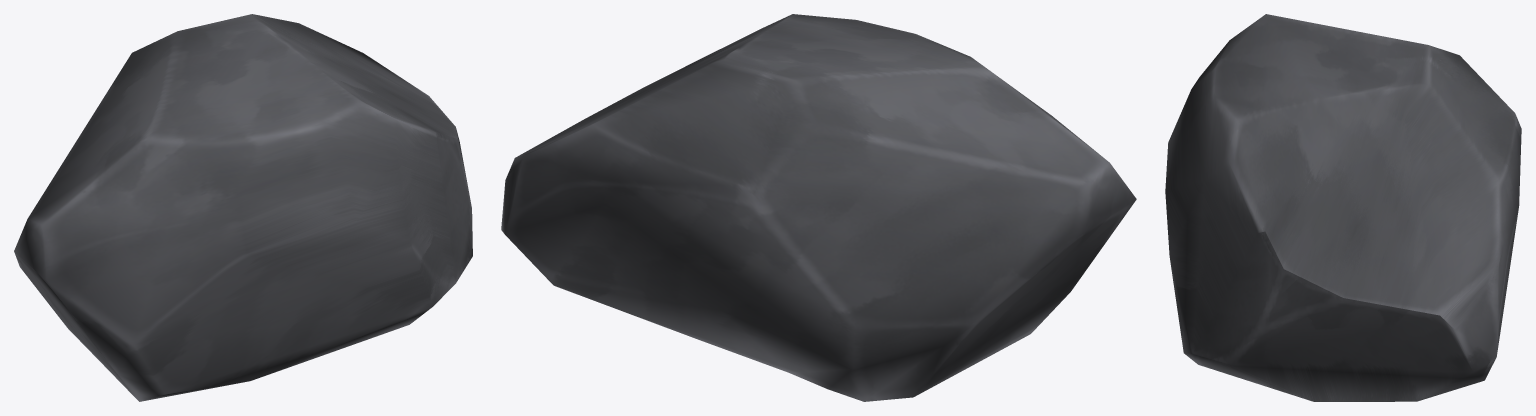
Rendered from Stone3_v1.fbx.
The picture shows the model from 3 angles, left to right: view 1: azimuth 30°, elevation 25°; view 2: azimuth 150°, elevation 25°; view 3: azimuth 270°, elevation 25°; orthographic projection. The views are drawn at different scales.
Parts seen in each view (by area): view 1: Stone3_v1; view 2: Stone3_v1; view 3: Stone3_v1.
Part boxes in pixels (left/top/right/bottom): Stone3_v1: left=14, top=14, right=472, bottom=401; Stone3_v1: left=501, top=14, right=1136, bottom=401; Stone3_v1: left=1165, top=14, right=1521, bottom=401.
Bounding box in the file's own units: 200 × 108 × 121.
1 material, 1 textured.
